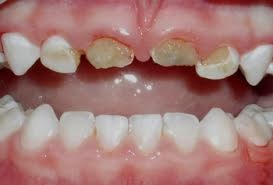Caries: (46, 37, 135, 64), (149, 37, 230, 66)
